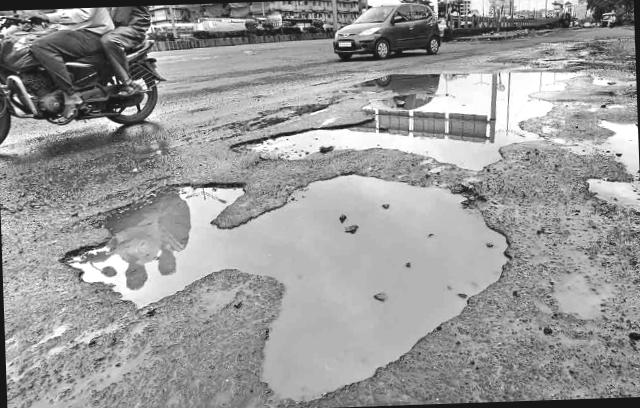Pothole: (58, 159, 523, 408), (227, 60, 638, 172), (575, 108, 640, 239), (538, 258, 616, 334)
